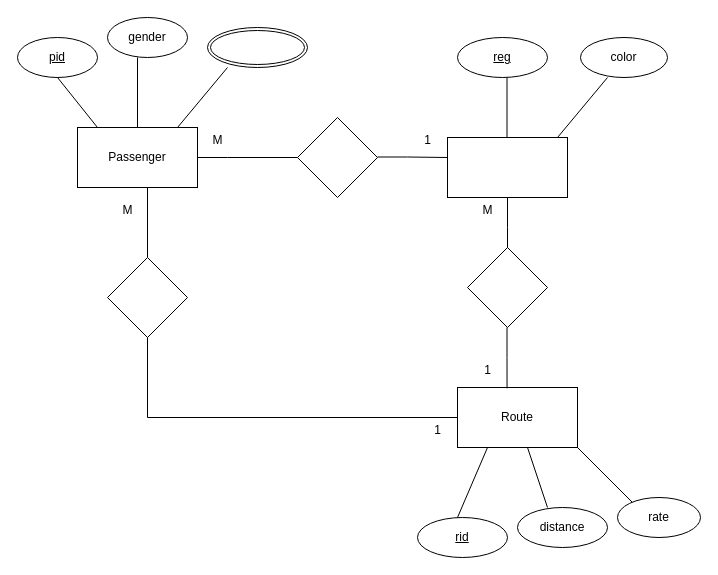
Some shapes in this 718 by 575 pixel diagram are drawn without their labels. The shapes that lost their labels are listed below. From the top down, each one's box as (x1, y1, x2, y2) in pixels, then its label:
(206, 26, 308, 68): phonenumber
(296, 116, 378, 198): assigned to
(446, 136, 568, 198): Bus
(106, 256, 188, 338): travel
(466, 246, 548, 328): travel on
